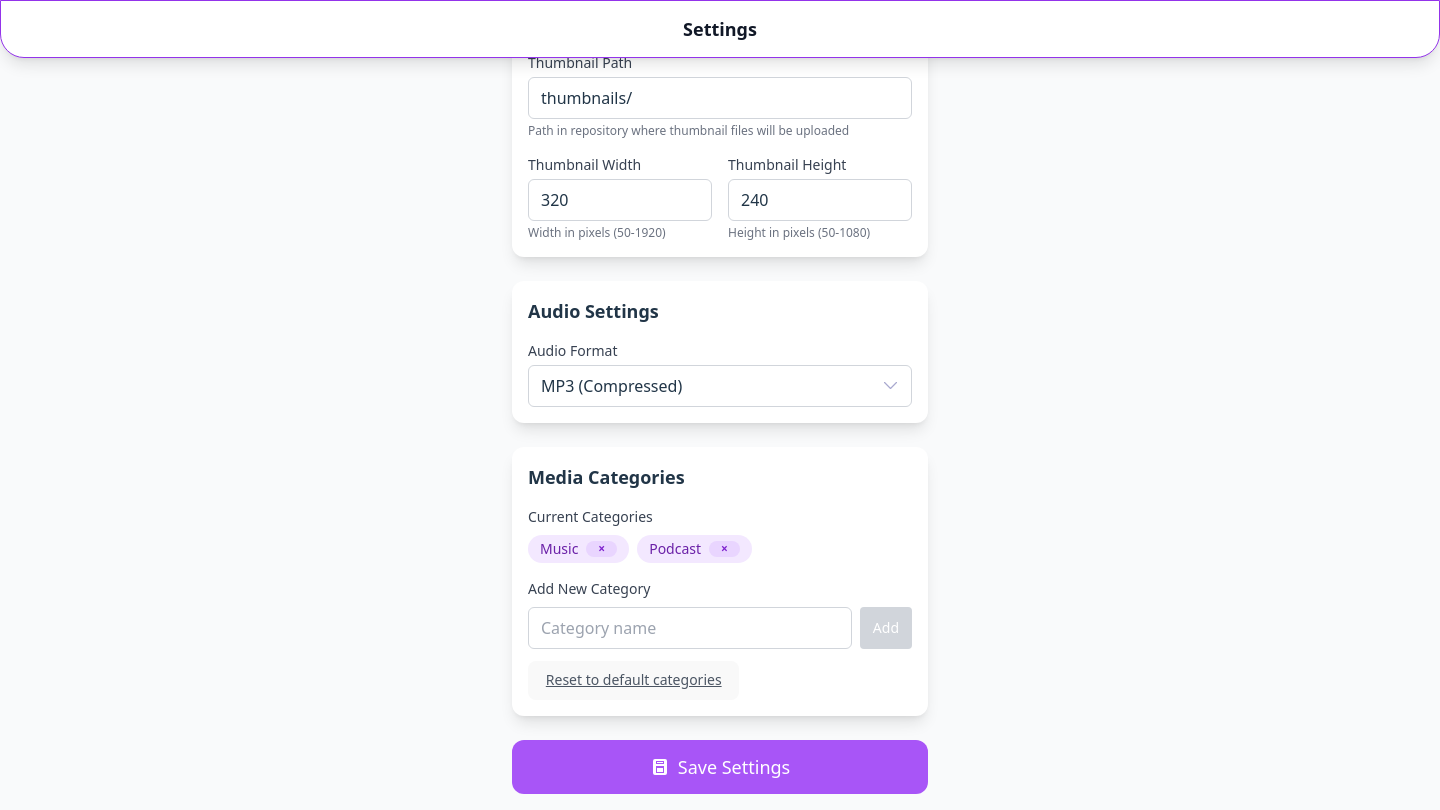
Test: Settings › handles removing category
(page scrolled)
Expected: the text "Music" is shown, [540,539,578,559]
Expected: the text "Podcast" is shown, [649,539,701,559]
Step 1. Click the button "×" next to "Music" → [602, 549], box [586,541,617,557]
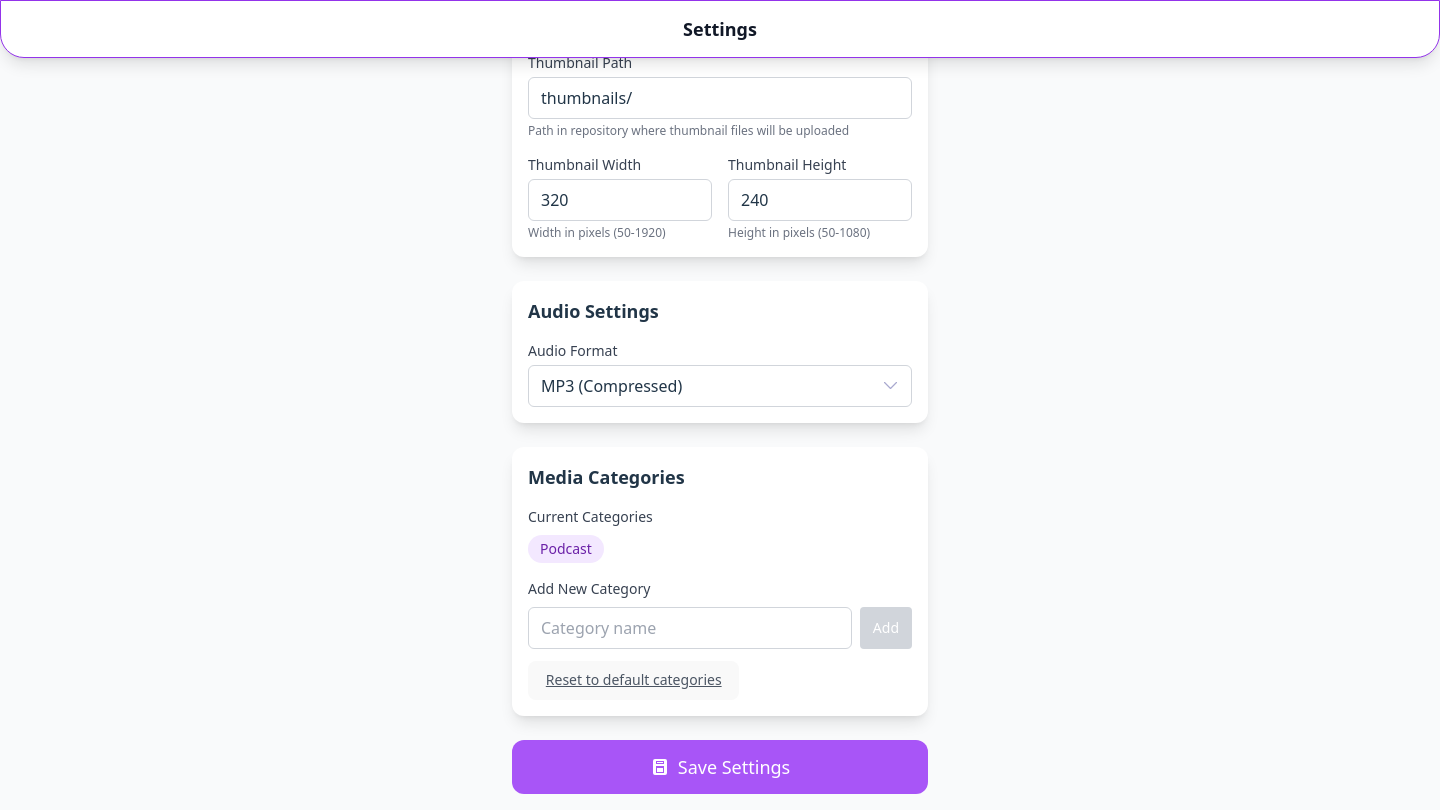
Now no buttons "×" are shown
